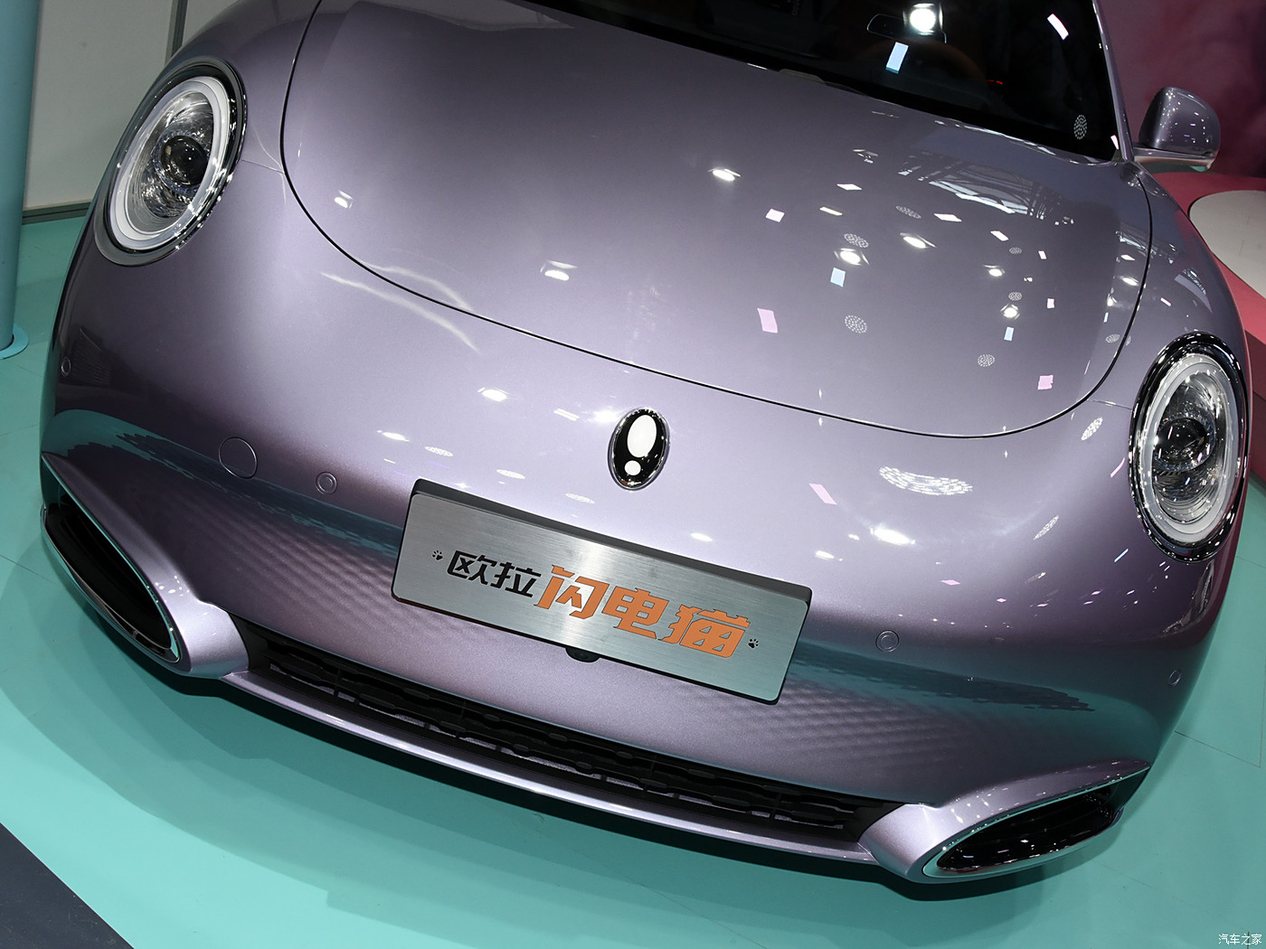ORA: (609, 409, 669, 490)
